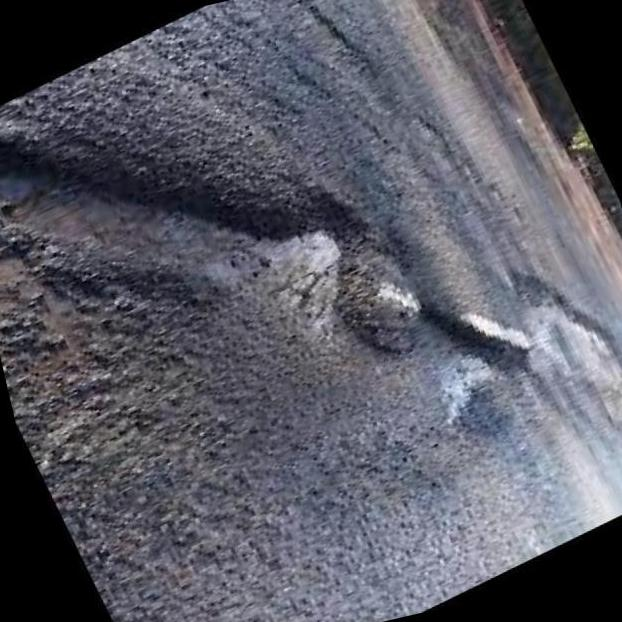pothole: (0, 80, 389, 340), (399, 272, 555, 444), (501, 247, 622, 422)
